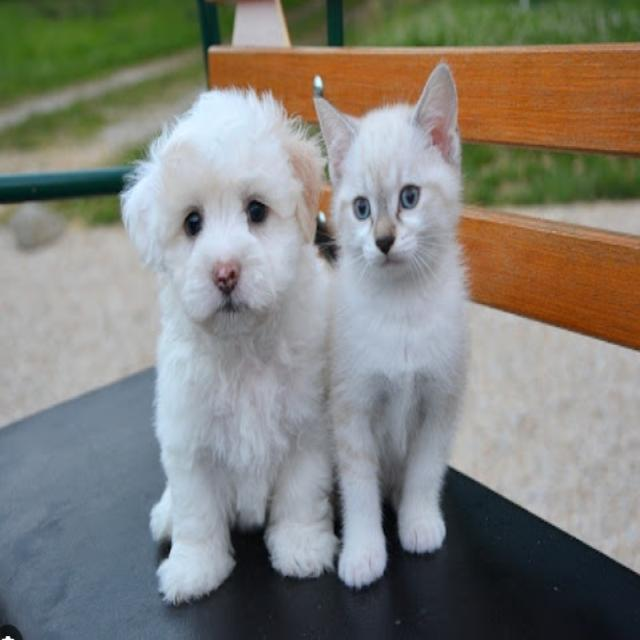cats: (308, 83, 484, 566)
dogs: (114, 71, 309, 587)
